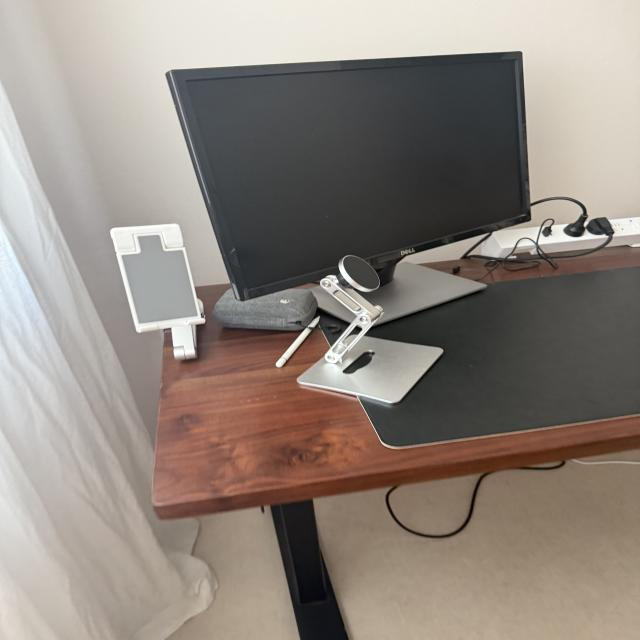phone holder: (284, 253, 453, 411)
